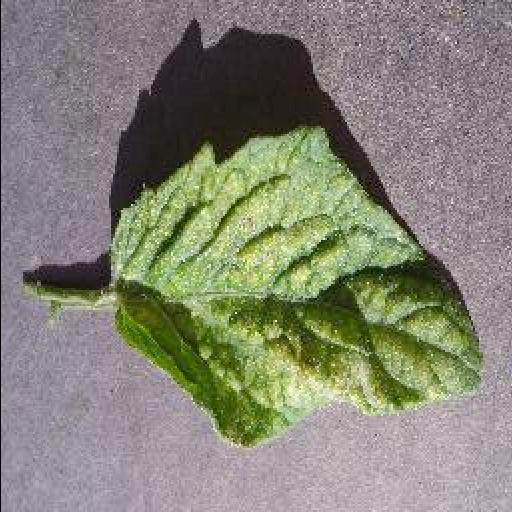disease_tomato: (108, 124, 482, 446)
